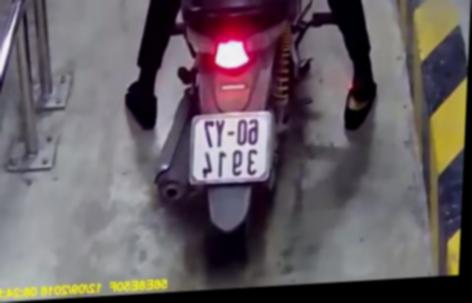License_Plate: (185, 108, 282, 188)
